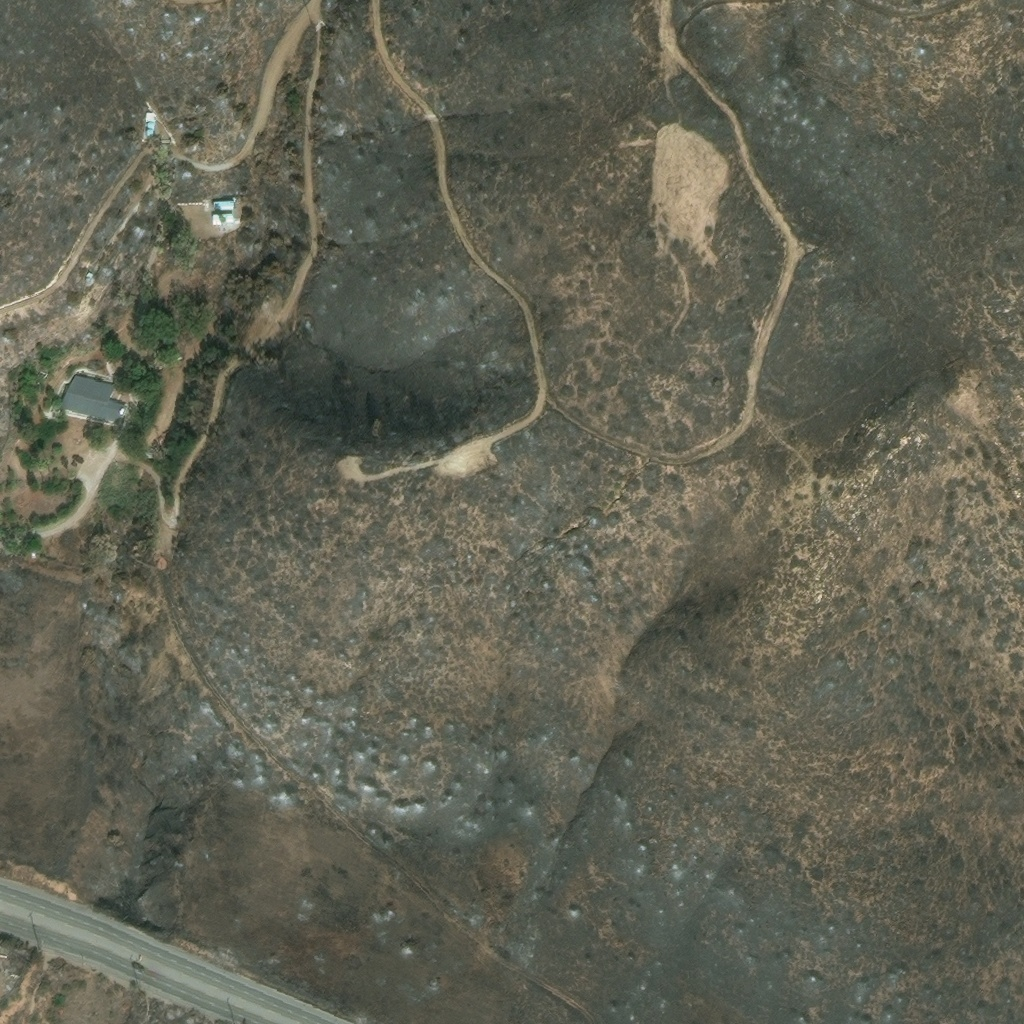0 no-damage: (59, 371, 129, 427), (212, 211, 233, 225), (212, 200, 235, 212), (85, 271, 93, 287), (145, 110, 157, 120), (145, 127, 155, 135), (147, 121, 156, 127)
